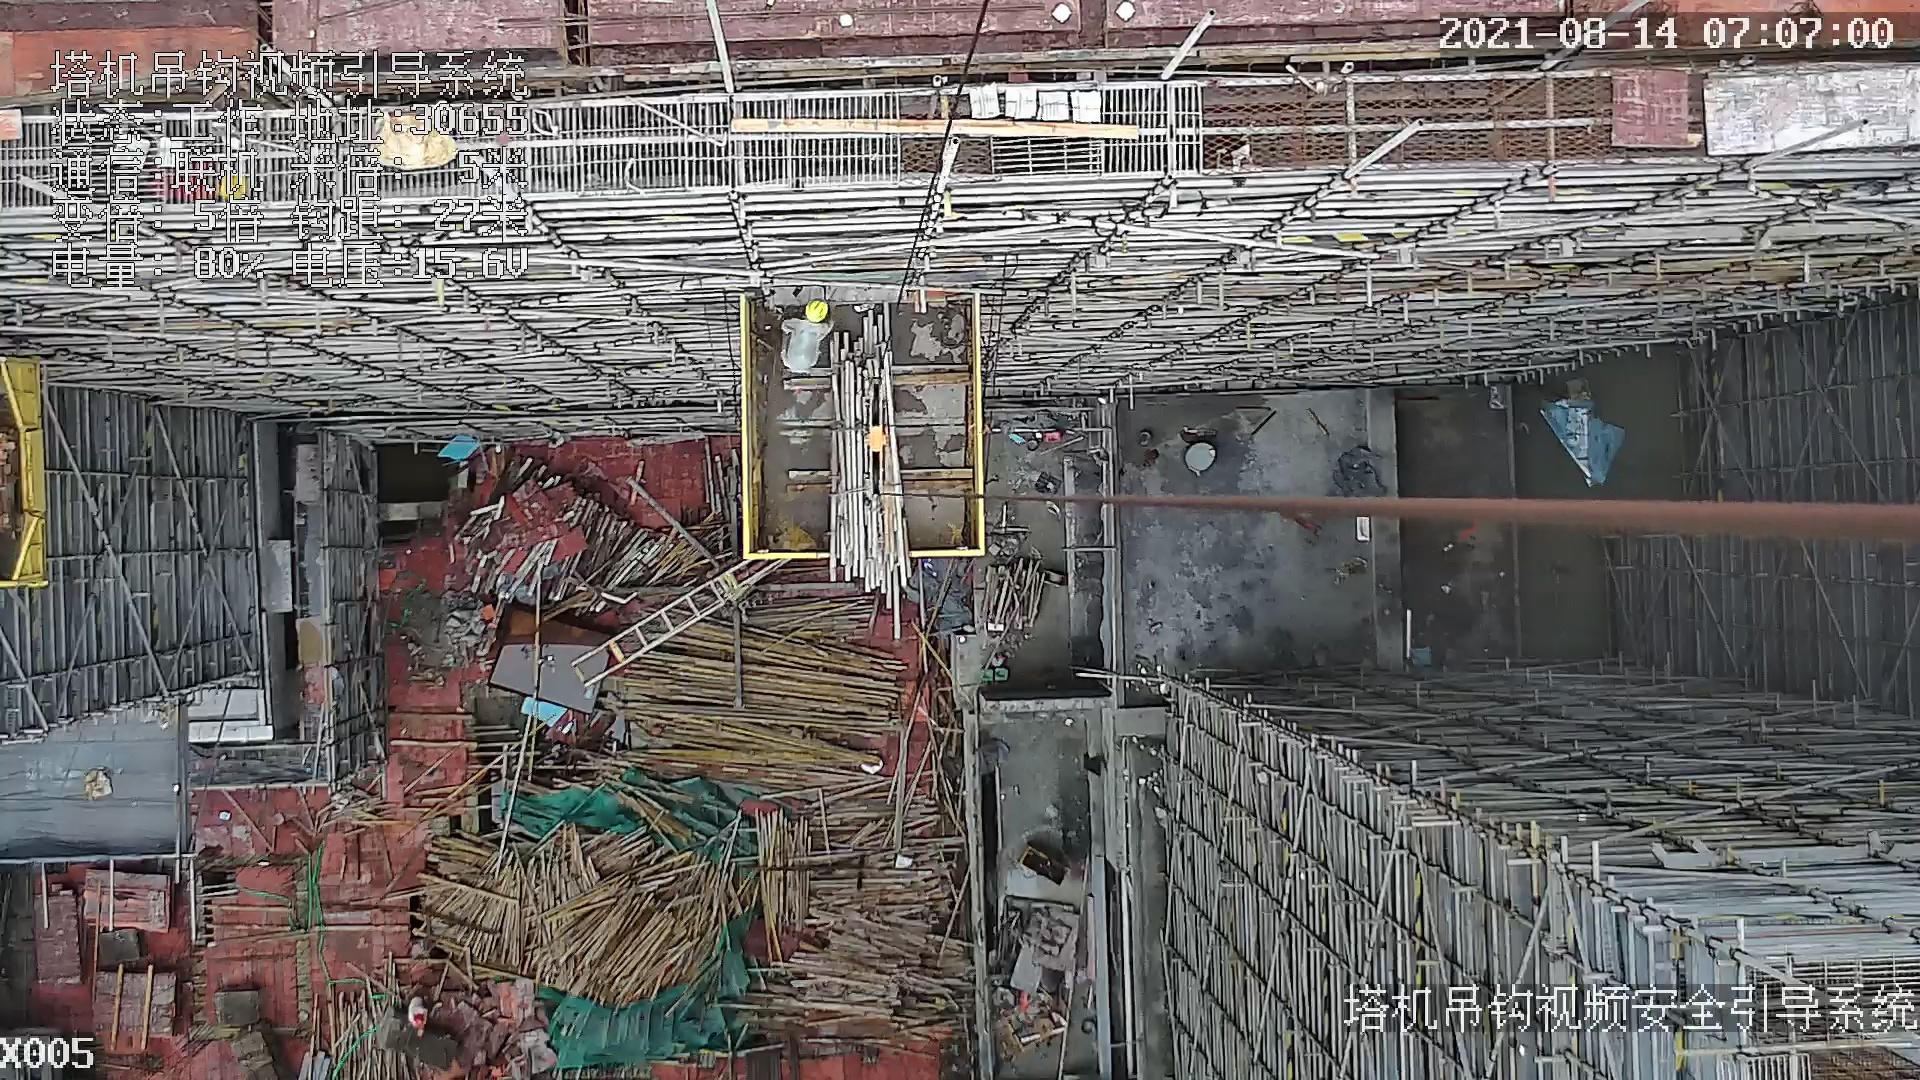helmet: (803, 298, 830, 323)
hook: (856, 377, 900, 504)
person: (782, 301, 837, 372)
